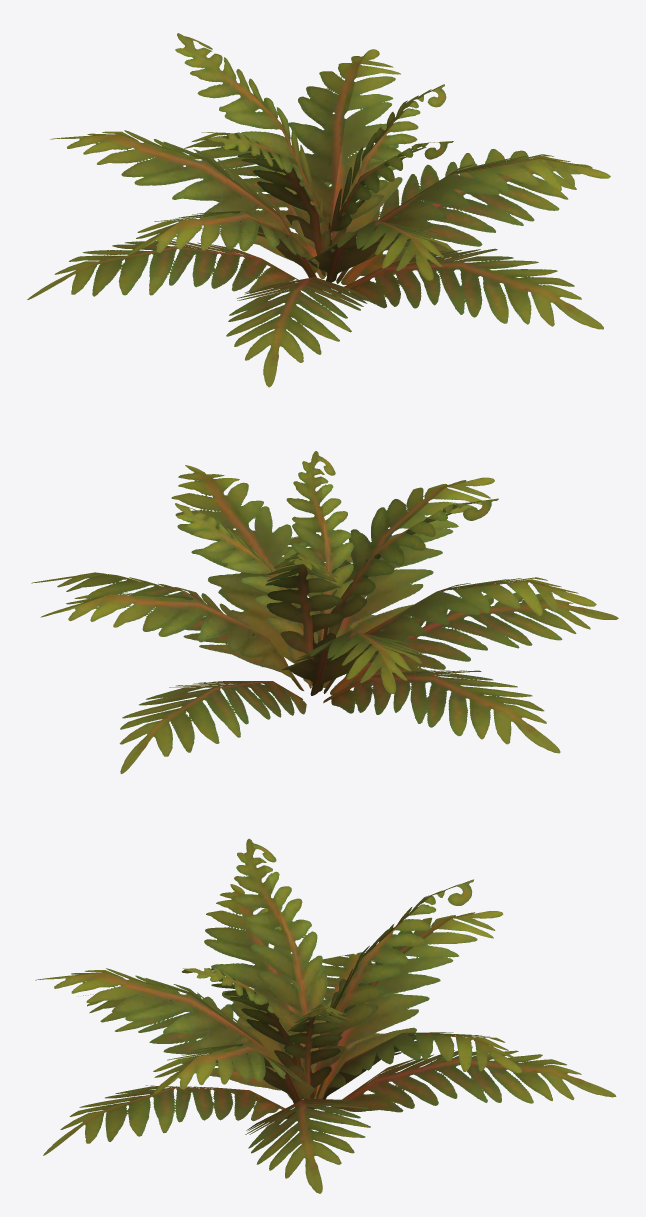
Rendered from map_112_guanmu_1.fbx.
The picture shows the model from 3 angles, top to bottom: view 1: azimuth 30°, elevation 25°; view 2: azimuth 150°, elevation 25°; view 3: azimuth 270°, elevation 25°; orthographic projection. The views are drawn at different scales.
Visible parts, largest first — view 1: map_112_shu_11; view 2: map_112_shu_11; view 3: map_112_shu_11.
Part boxes in pixels (x1=…): map_112_shu_11: x1=27, y1=33, x2=610, y2=387; map_112_shu_11: x1=31, y1=451, x2=618, y2=773; map_112_shu_11: x1=35, y1=838, x2=616, y2=1193.
Bounding box in the file's own units: 0.9161 × 0.3459 × 0.8849.
